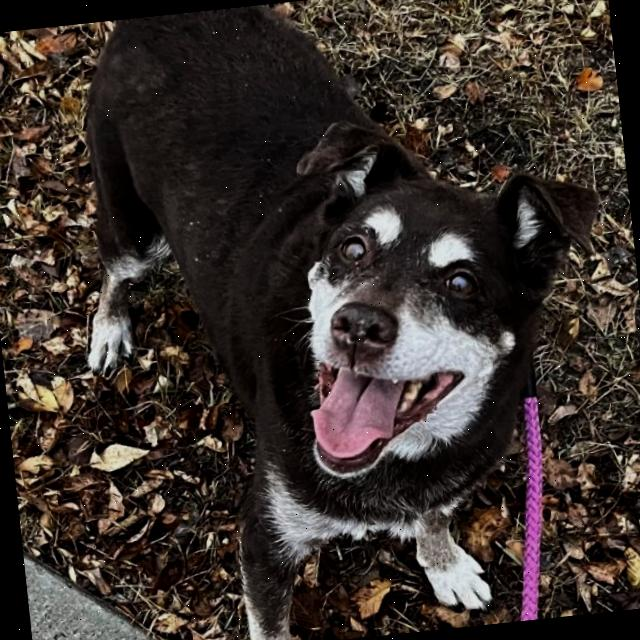labrador_retriever_dog: (245, 74, 636, 532)
